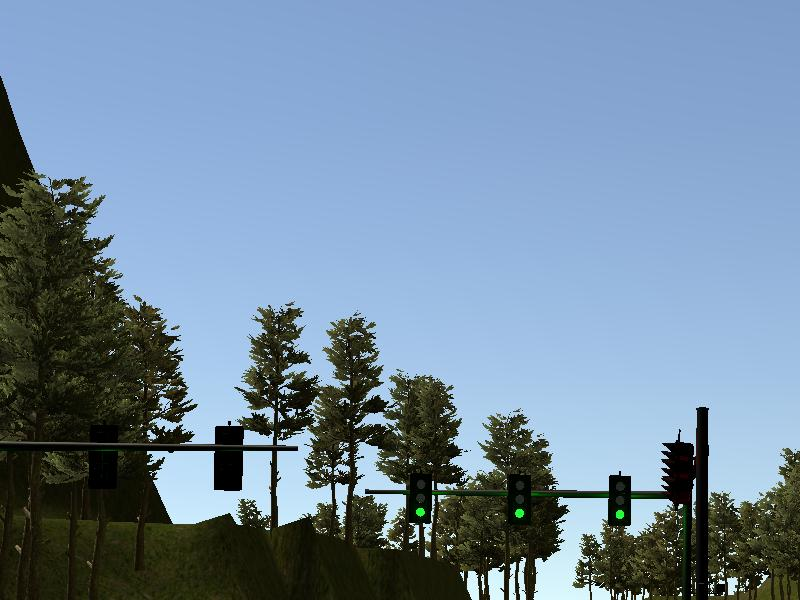Green: (409, 475, 432, 523), (508, 475, 529, 523), (608, 477, 629, 524)
